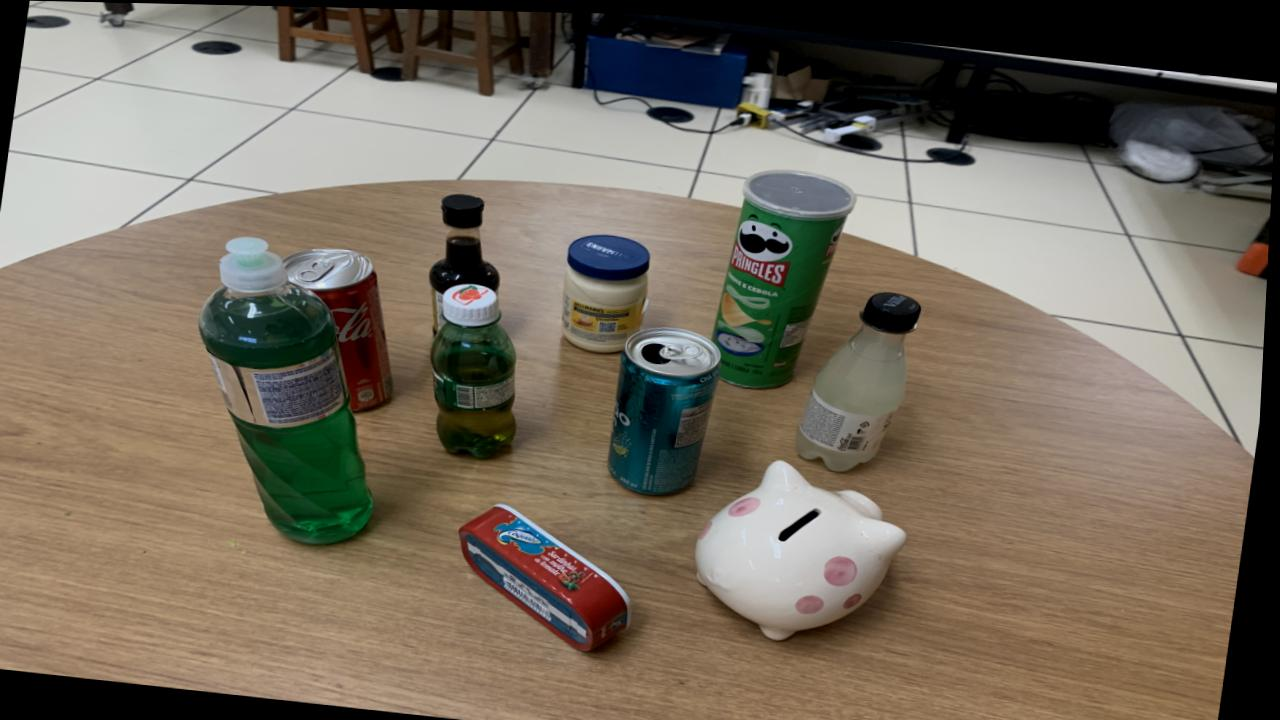Coke-Drinks: (285, 247, 397, 410)
Detergent-Cleanup_Items: (201, 235, 378, 543)
English_Sauce-Pantry_Items: (431, 191, 502, 331)
Guarana-Drinks: (433, 281, 521, 455)
Mayonnaise-Pantry_Items: (564, 232, 653, 350)
Pig_Safe-Miscellaneous: (700, 458, 912, 636)
Pringles-Snacks: (716, 166, 857, 385)
Soda-Drinks: (800, 287, 924, 468)
Tea-Drinks: (611, 324, 724, 492)
Tuna_Can-Pantry_Items: (464, 502, 638, 648)
